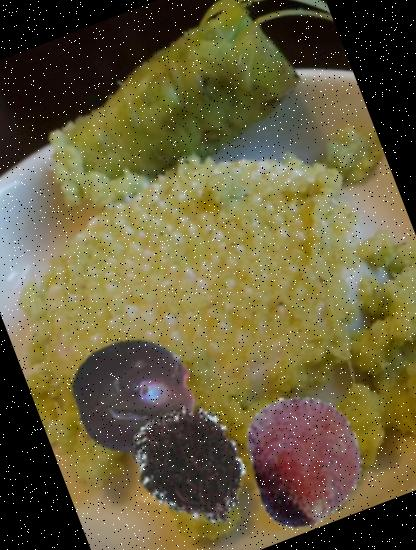Passion: (54, 316, 214, 476)
Rambutan: (109, 382, 280, 550)
Salak: (219, 374, 391, 546)
